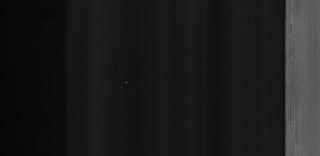silk spot: (288, 9, 310, 156)
